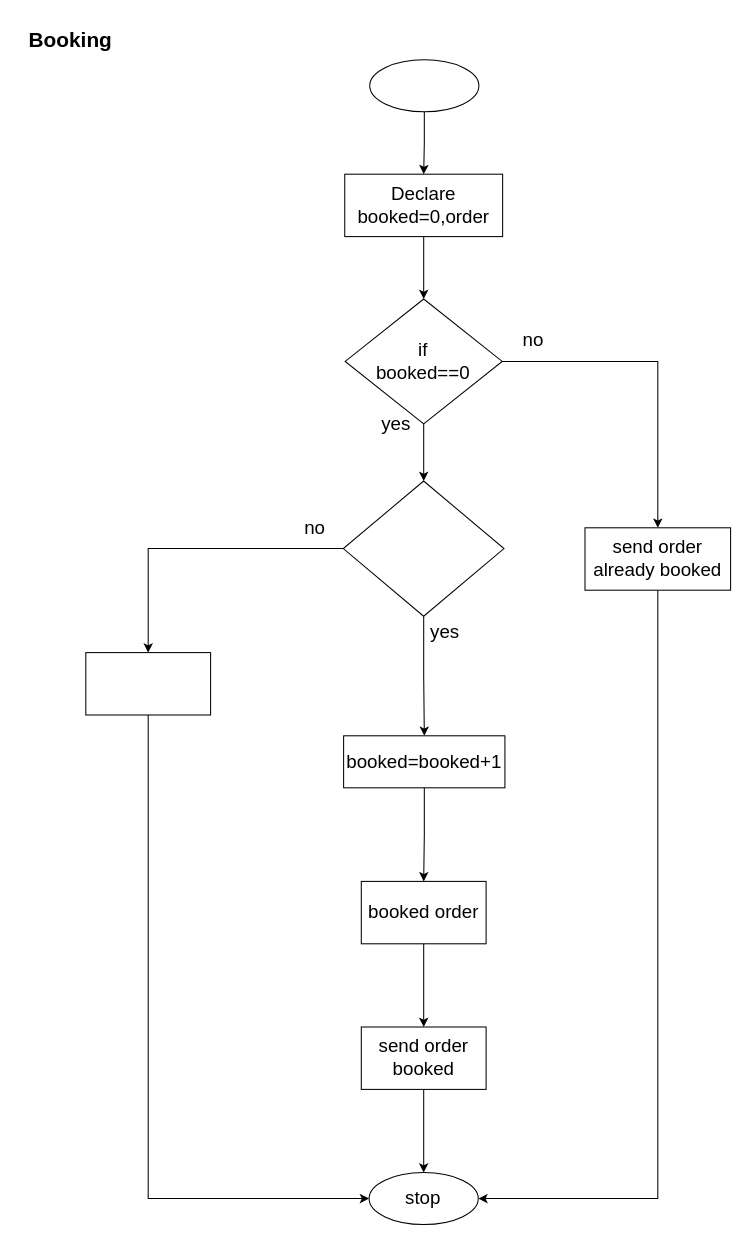
Image size: 749x1243. Some labels were removed from this diagram. Here are the shapes that lost their labels. From the top down, the box of each, then its label:
(369, 59, 479, 112): start
(342, 480, 504, 616): if order==yes
(85, 652, 211, 715): send sorry you not book
